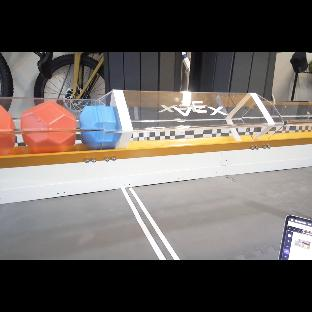Goal: (0, 90, 310, 168)
V5_BLUE: (79, 105, 122, 150)
blueingoal: (79, 105, 124, 150)
redingoal: (21, 102, 76, 153), (0, 105, 17, 155)
